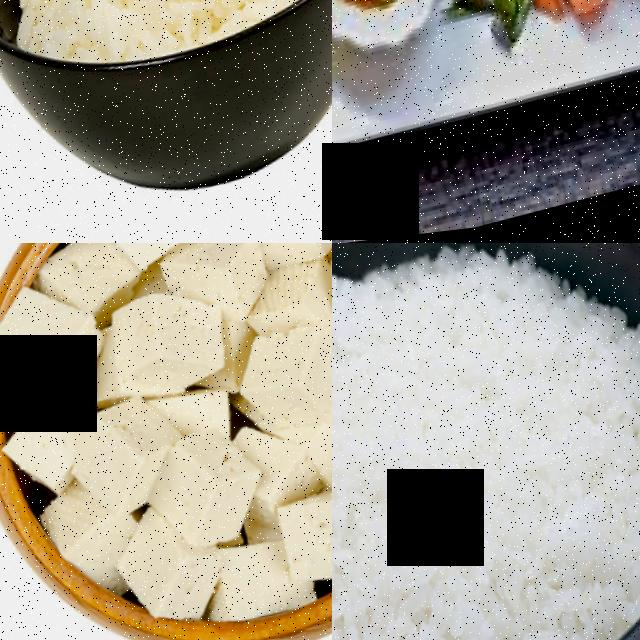tofu: (96, 282, 231, 415), (136, 425, 266, 563), (0, 273, 108, 415), (224, 319, 332, 451), (265, 486, 332, 603), (224, 243, 332, 292), (85, 243, 204, 285)
white rice: (332, 243, 640, 640), (0, 0, 332, 89)
